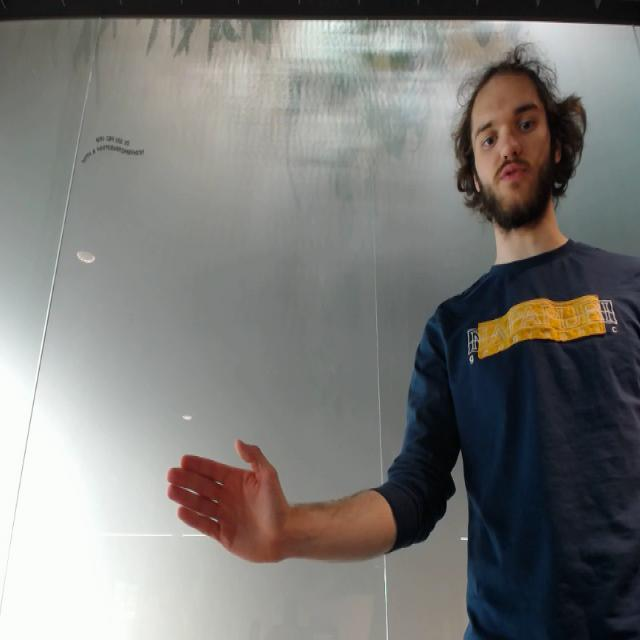left: (146, 412, 294, 574)
